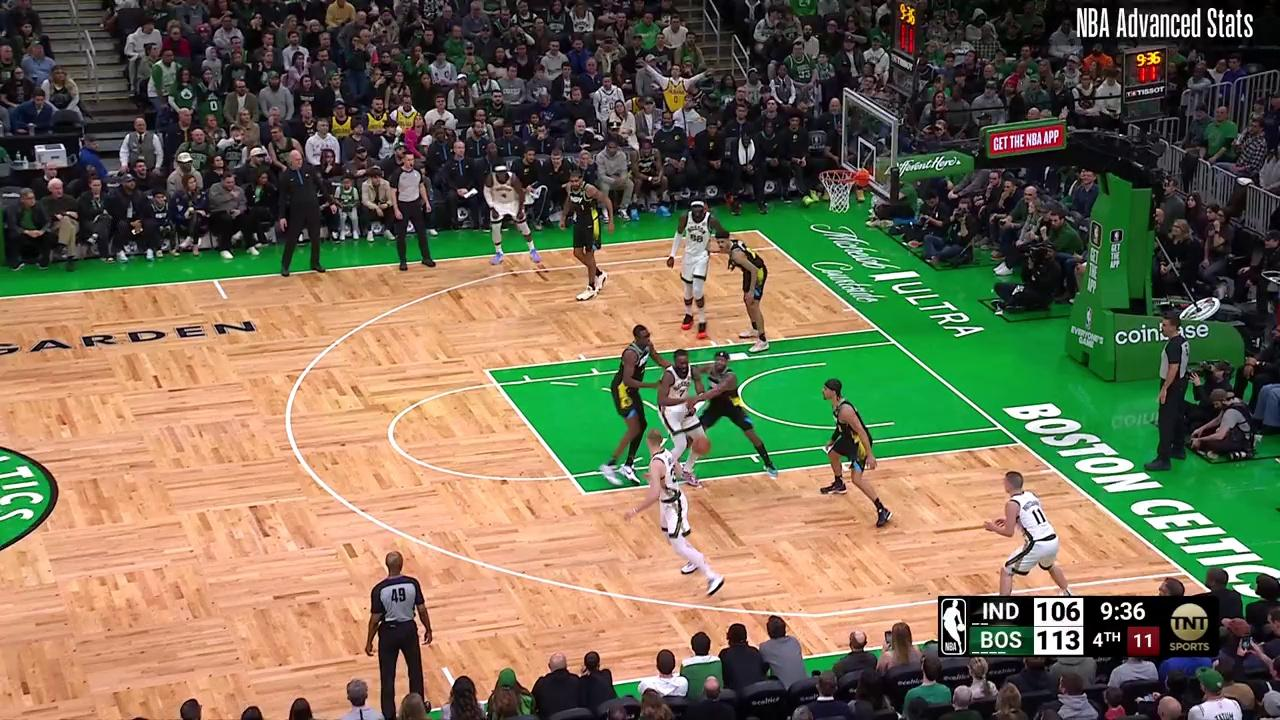3_dx: (1178, 566, 1194, 581)
3_sx: (771, 242, 783, 253)
b_sx: (751, 225, 762, 236)
free_adx: (578, 487, 589, 498)
free_asx: (480, 365, 492, 377)
free_bdx: (1013, 436, 1027, 450)
free_bsx: (871, 324, 884, 335)
mid_dx: (438, 662, 451, 673)
mid_sx: (219, 293, 233, 304)
referee: (359, 550, 437, 713), (1141, 318, 1189, 476), (391, 152, 440, 270)
team: (621, 427, 726, 598), (981, 472, 1075, 598), (667, 198, 724, 339), (479, 158, 544, 262), (659, 351, 707, 481)
team1: (819, 377, 900, 525), (695, 350, 774, 475), (605, 326, 661, 487), (557, 172, 618, 302), (716, 228, 777, 356)
